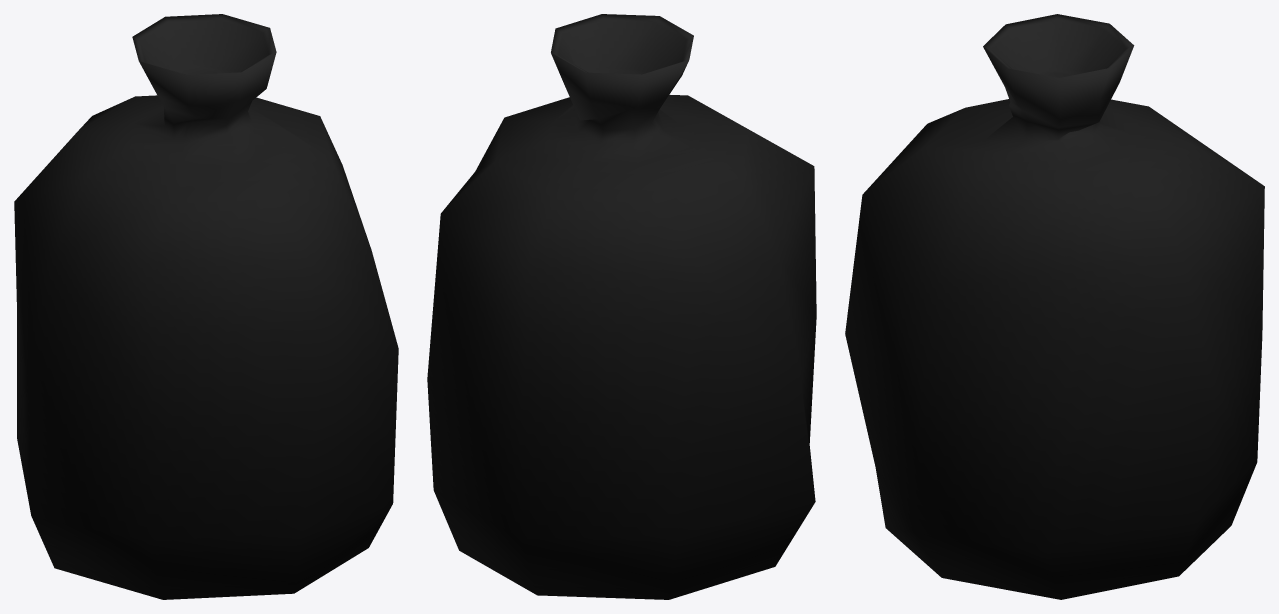
File: TrashPlastic.fbx
3 renders of one model, left to right at view 1: azimuth 30°, elevation 25°; view 2: azimuth 150°, elevation 25°; view 3: azimuth 270°, elevation 25°, orthographic.
Visible parts, largest first — view 1: TrashPlasticBig_LOD0; view 2: TrashPlasticBig_LOD0; view 3: TrashPlasticBig_LOD0.
Part boxes in pixels (bbox=[...]): TrashPlasticBig_LOD0: bbox=[14, 14, 398, 599]; TrashPlasticBig_LOD0: bbox=[427, 14, 816, 599]; TrashPlasticBig_LOD0: bbox=[845, 14, 1264, 599].
Size of what is drawn, in the model's own units: 72.99 by 96.26 by 73.38.
